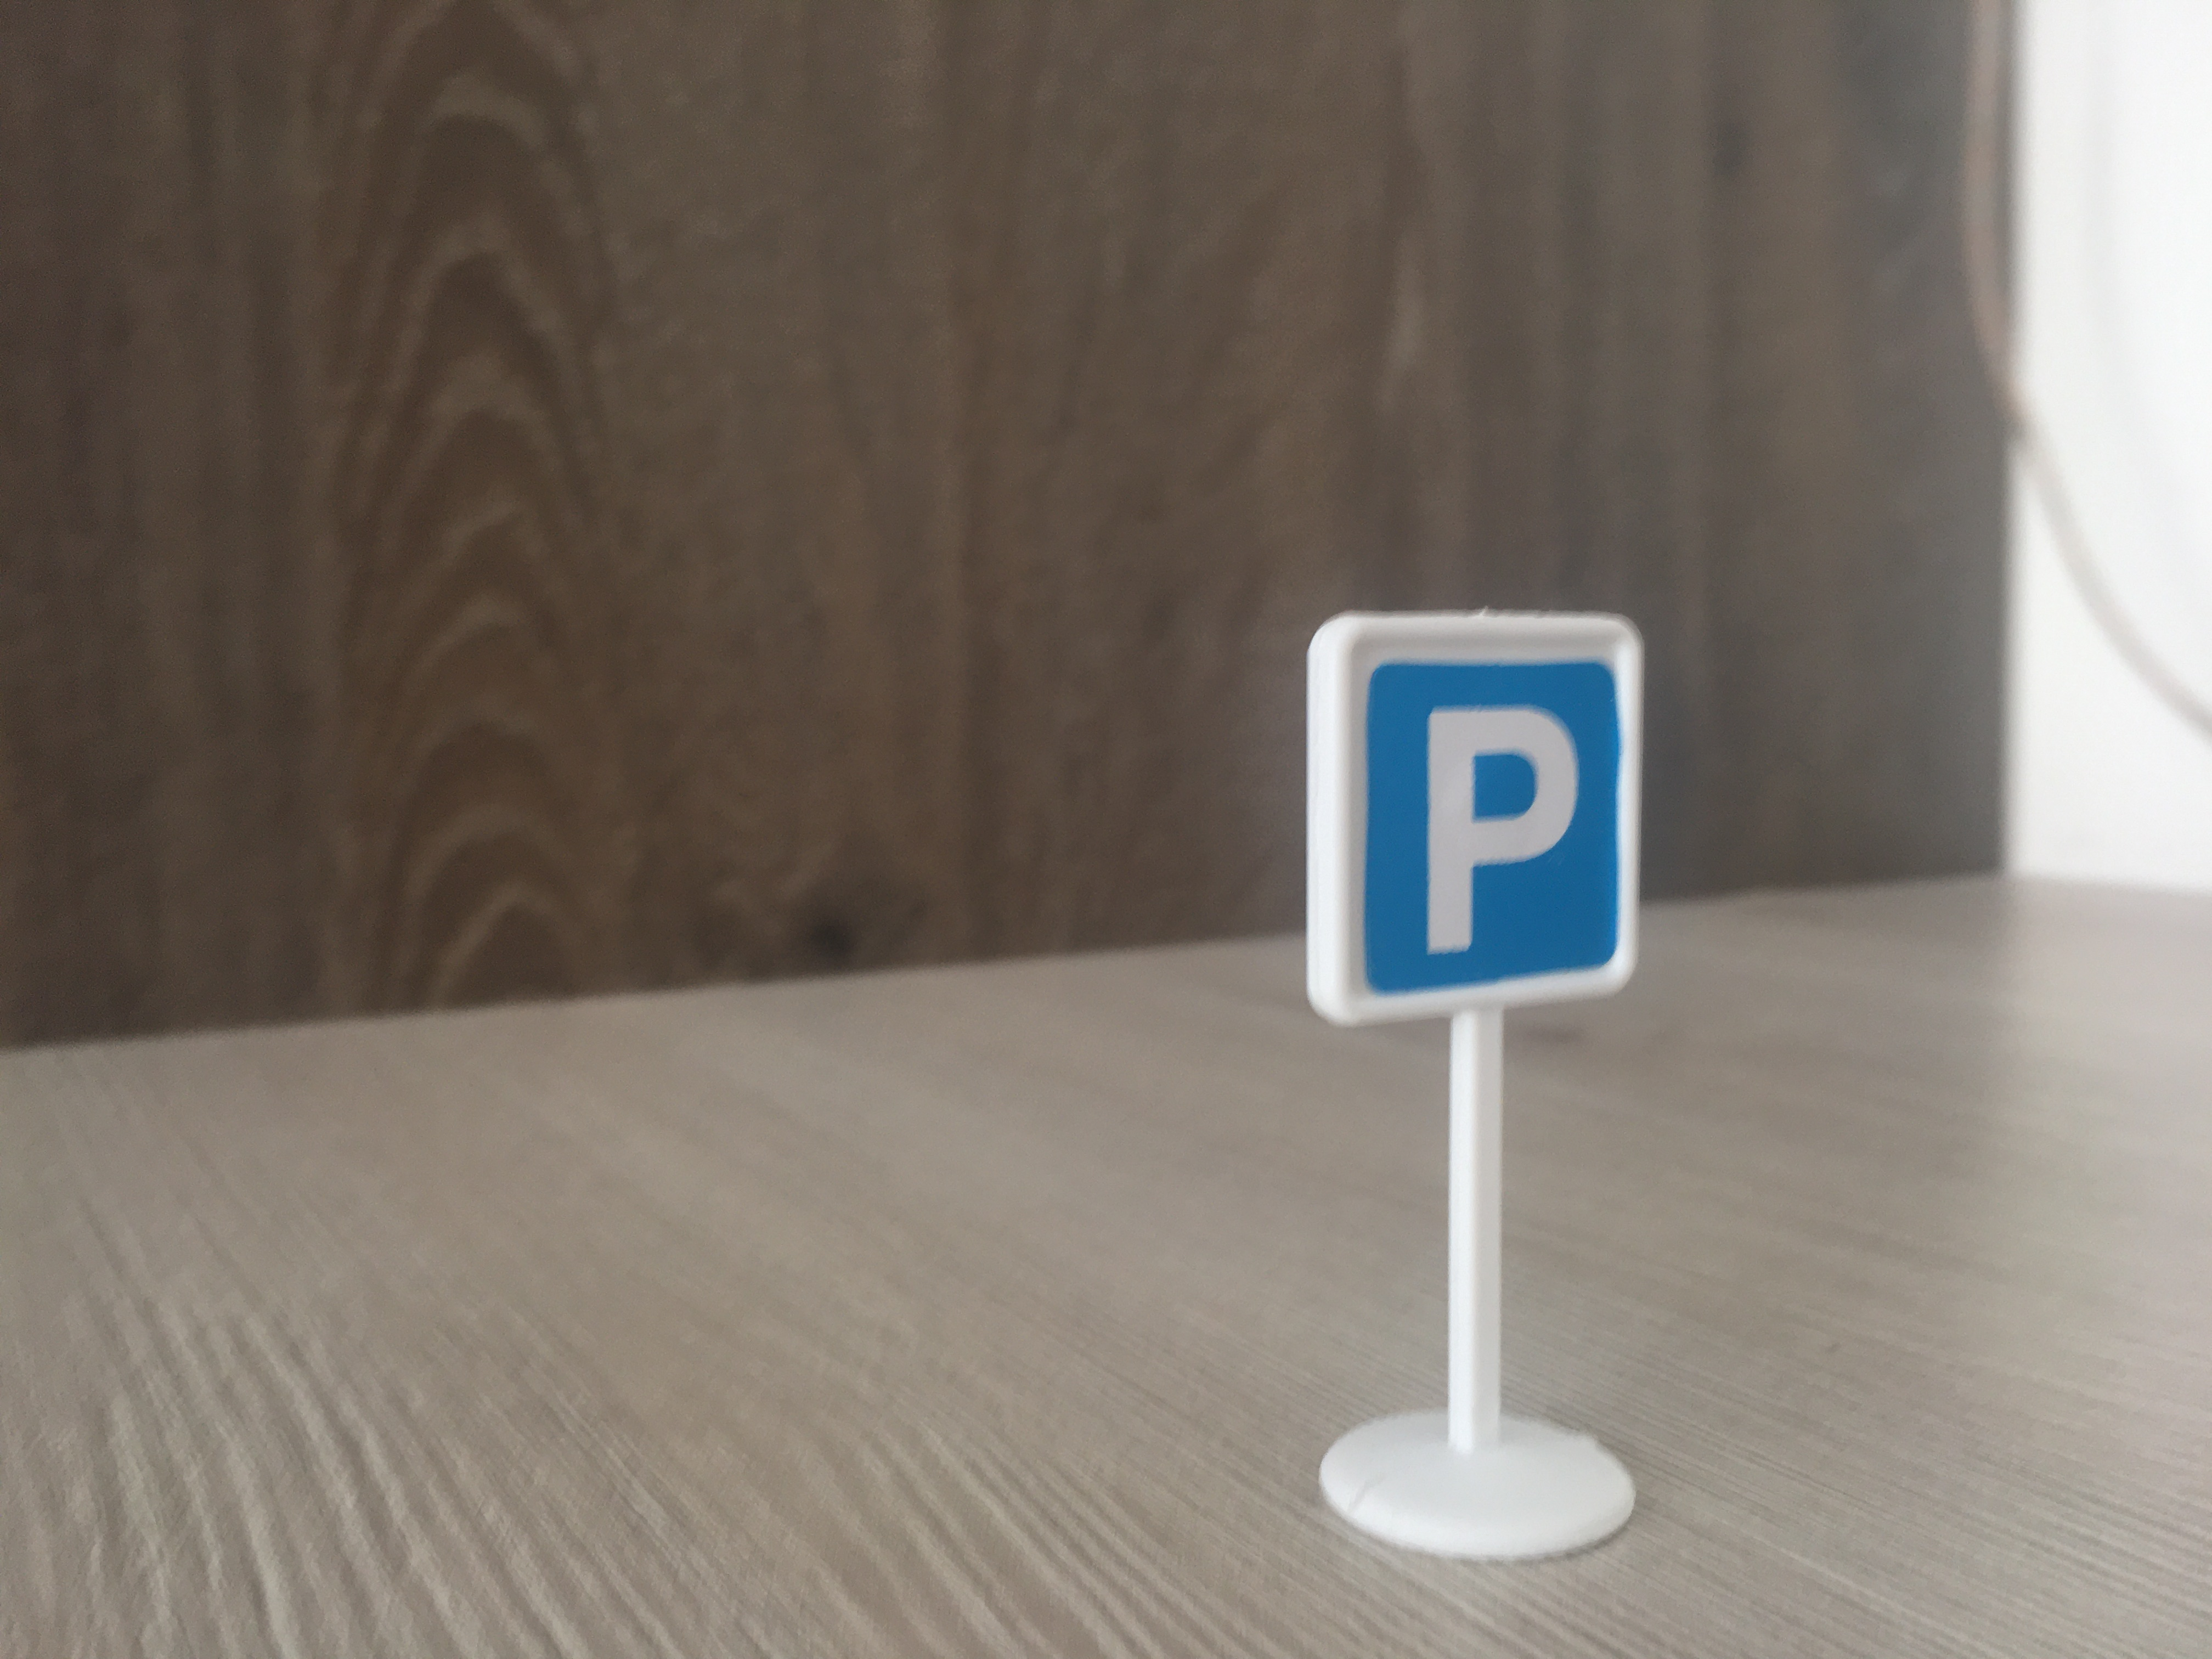parking: (1301, 612, 1641, 1030)
